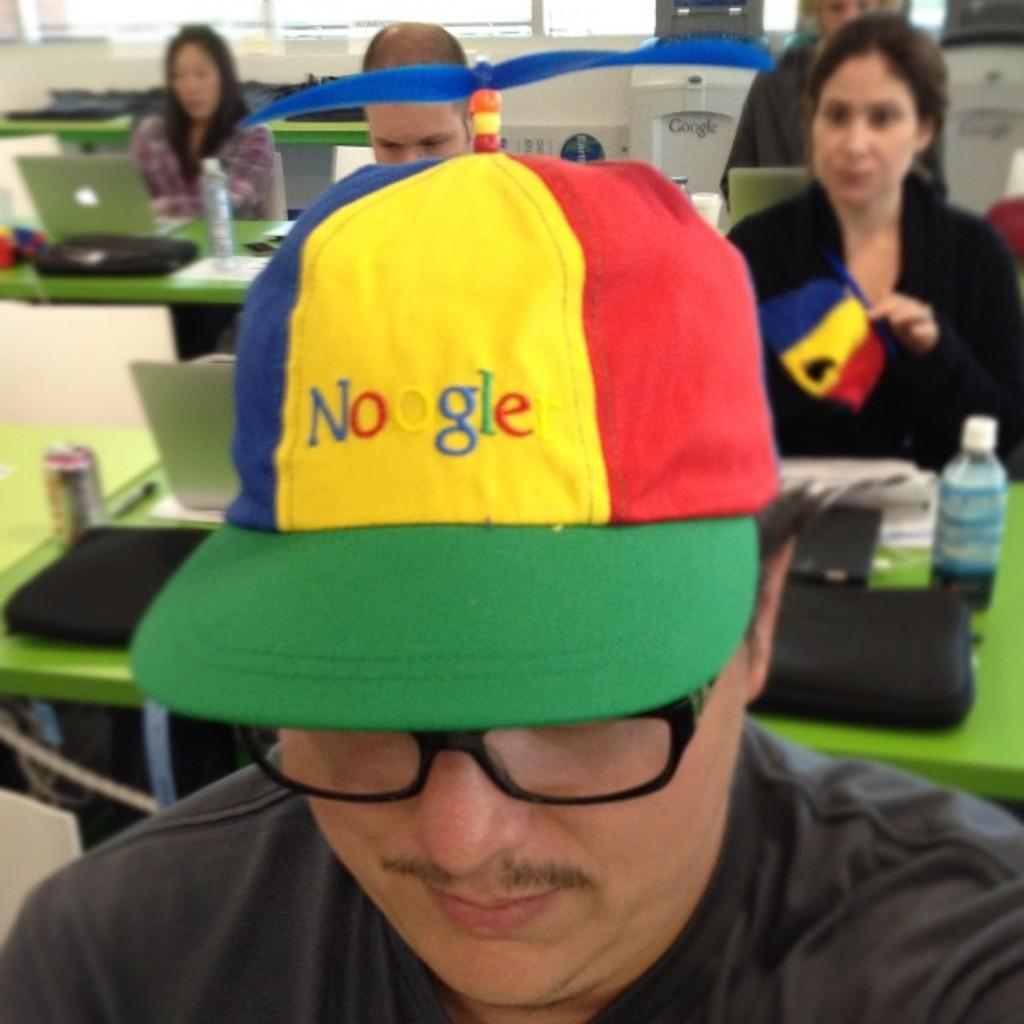Hat: (128, 36, 782, 730)
